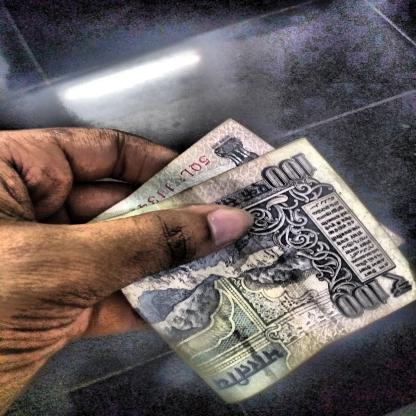Rs100: (325, 265, 416, 329)
